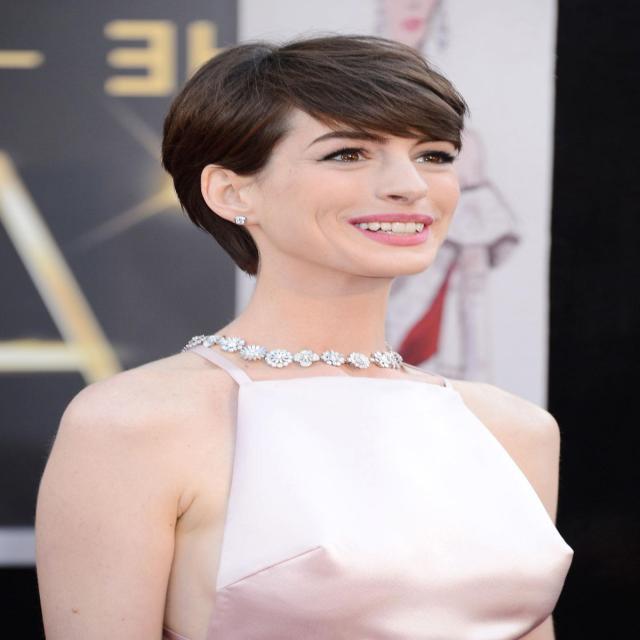no-earmuff: (178, 146, 274, 238)
